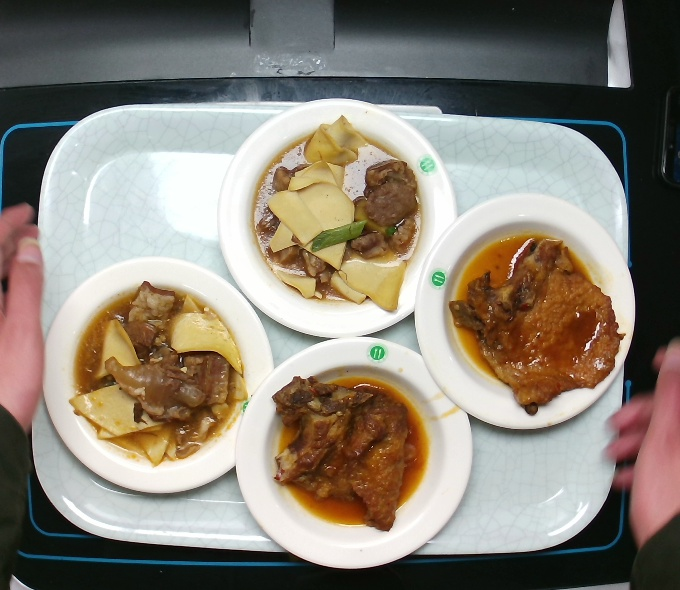wcq-DaPai: (448, 219, 624, 410), (267, 358, 419, 530)
wcq-QianZhangNiuRou: (244, 120, 431, 301), (63, 282, 250, 463)
